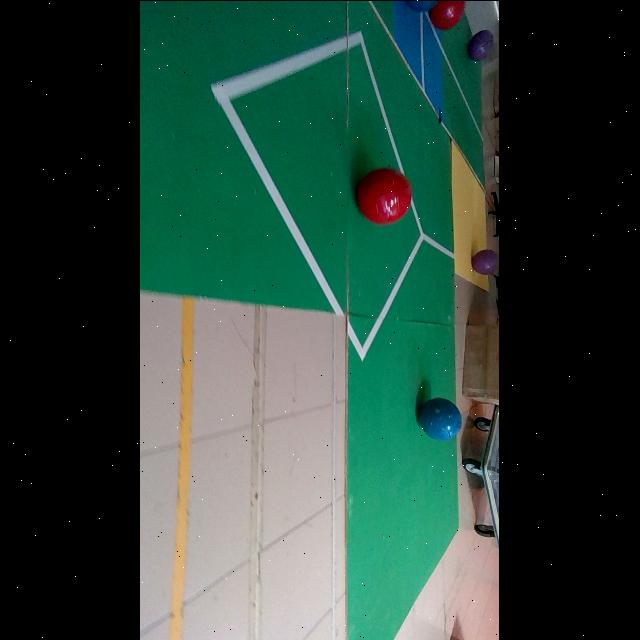B: (420, 399, 462, 440), (406, 0, 440, 11)
P: (469, 29, 494, 60), (473, 249, 500, 274)
R: (358, 168, 413, 224), (430, 0, 467, 30)
